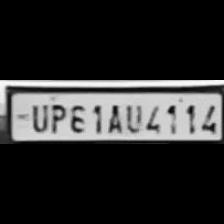1: (162, 101, 180, 133), (179, 100, 197, 132), (88, 101, 104, 133)
4: (141, 101, 163, 131), (198, 100, 218, 132)
A: (103, 100, 123, 132)
P: (47, 100, 66, 132)
U: (27, 100, 49, 132), (122, 100, 140, 132)
